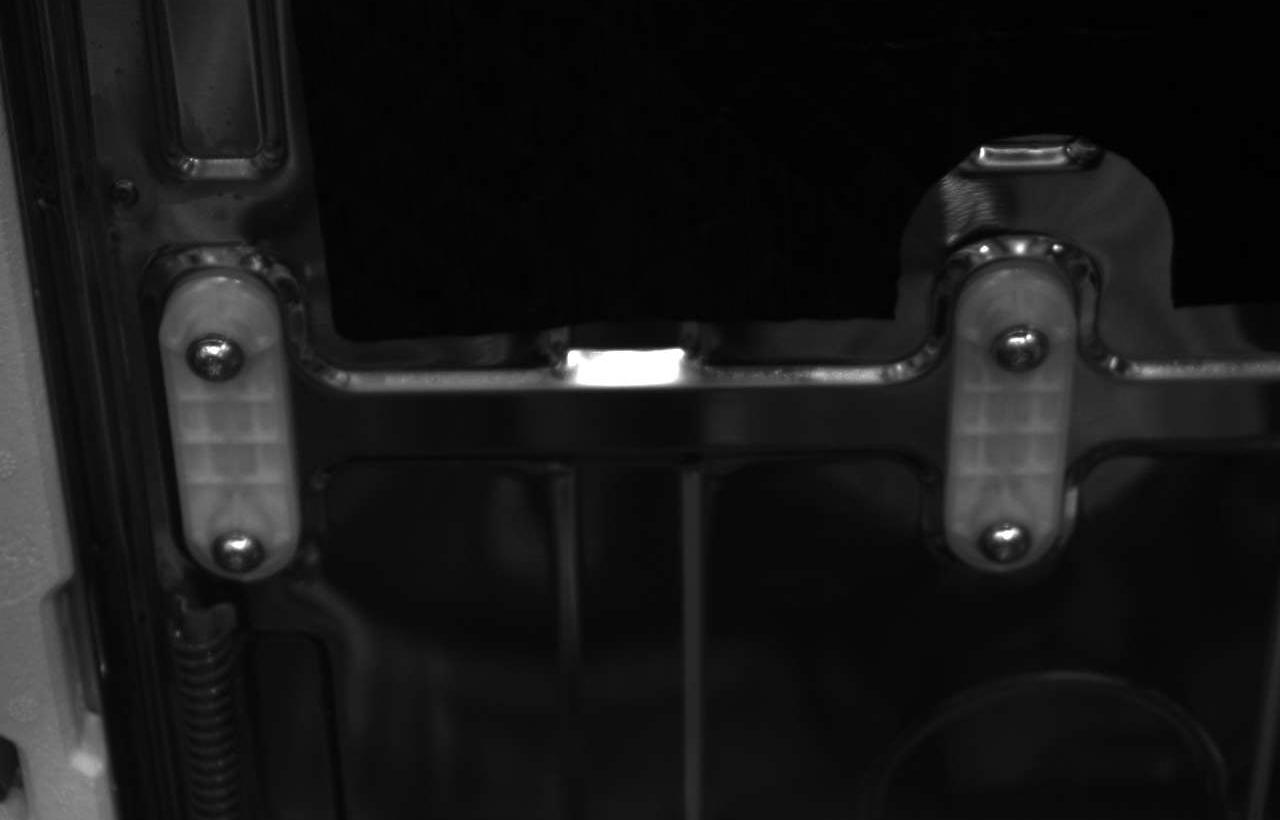vida-ok: (180, 324, 251, 391), (986, 319, 1053, 387), (973, 505, 1039, 574), (201, 521, 267, 579)
